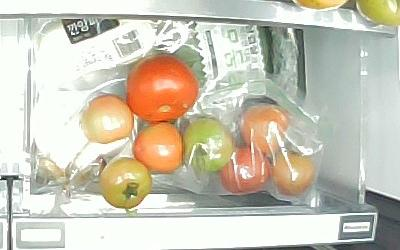tomato: (126, 55, 198, 123), (101, 157, 154, 211), (80, 96, 133, 144), (133, 123, 182, 173)
tomato_vinyl: (182, 118, 234, 172), (239, 102, 291, 155), (222, 147, 271, 194), (271, 149, 314, 193)
